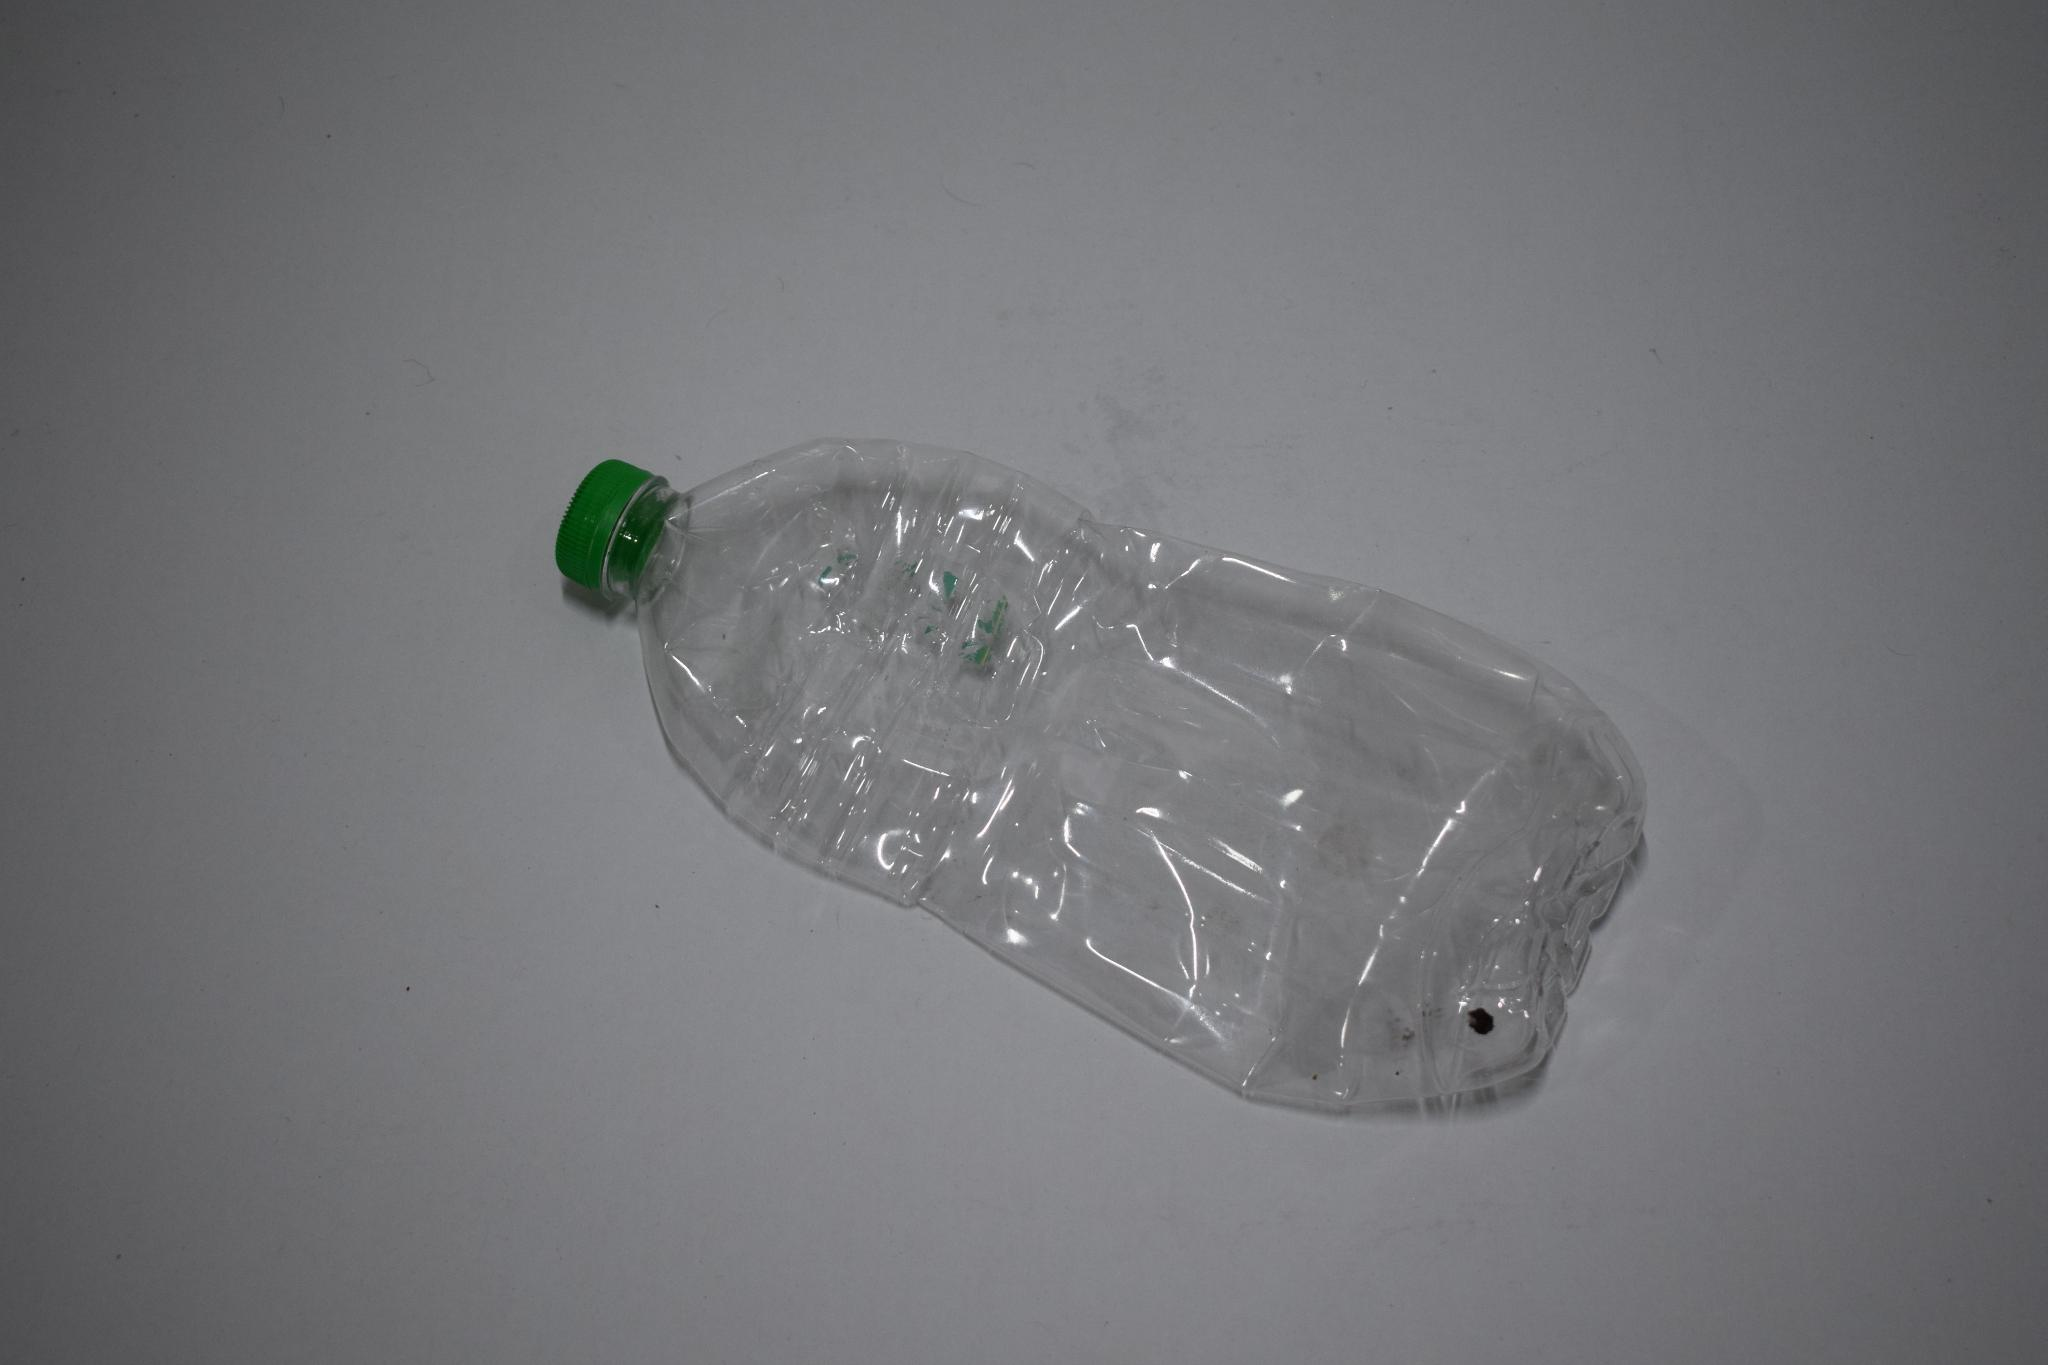bottle: (507, 401, 1716, 1185)
